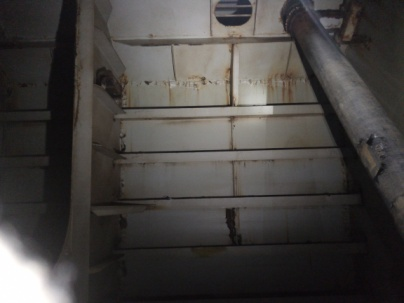corrosion: (266, 66, 305, 106), (161, 67, 209, 97), (108, 73, 135, 108), (104, 214, 127, 251), (216, 212, 241, 242), (113, 118, 132, 150), (109, 169, 124, 204)
